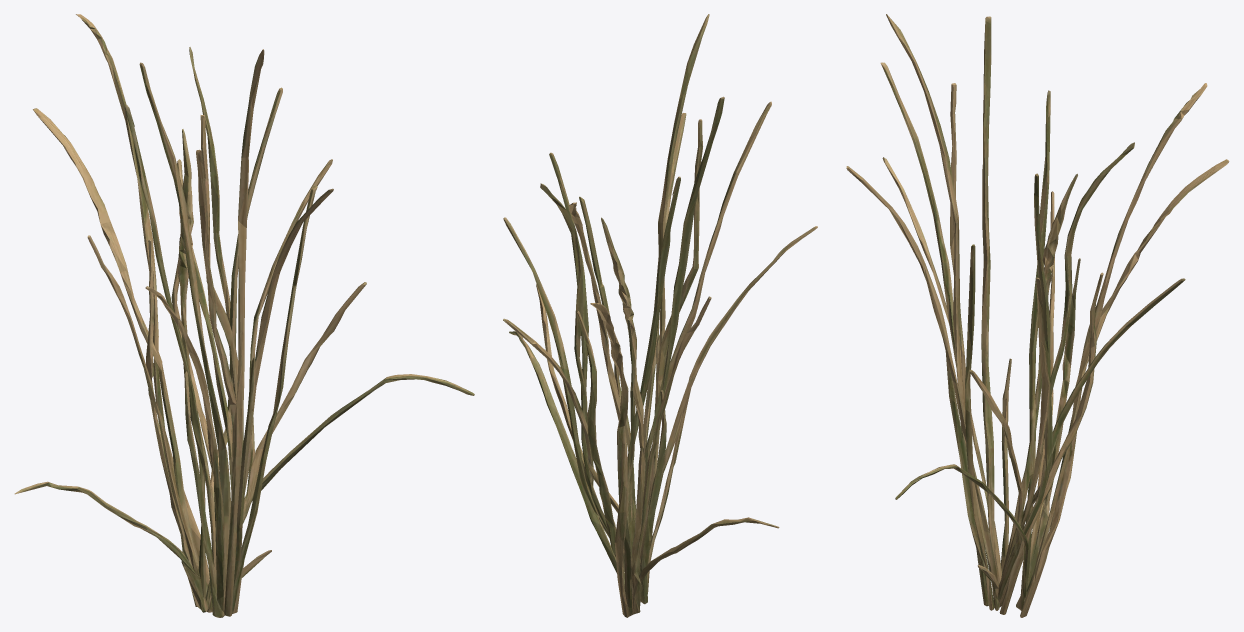
File: junco_adorno_alto.glb
3 views of the same model, side by side, from view 1: azimuth 30°, elevation 25°; view 2: azimuth 150°, elevation 25°; view 3: azimuth 270°, elevation 25° (orthographic). The views are drawn at different scales.
Parts seen in each view (by area): view 1: alto; view 2: alto; view 3: alto.
Boxes of the visible parts, <box> form: alto: <box>14,14,474,617</box>; alto: <box>503,14,817,617</box>; alto: <box>846,14,1229,617</box>.
Bounding box in the file's own units: 0.5125 × 0.8 × 0.4678.
Materials: 1 (1 with a texture image).
